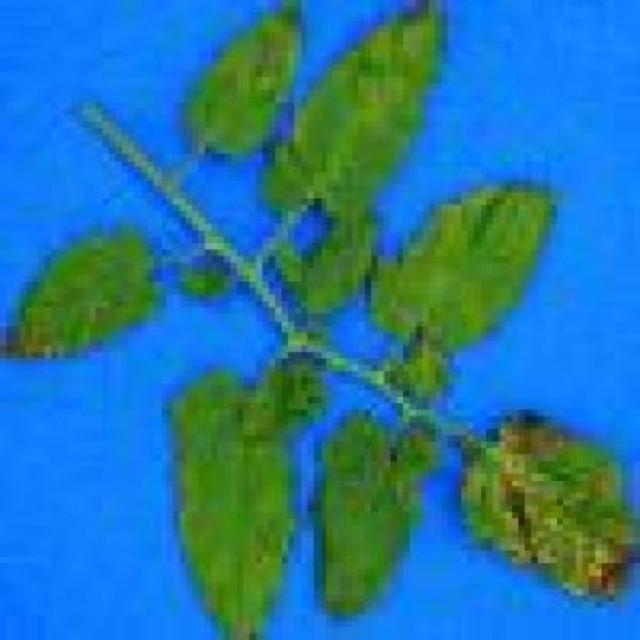Septoria leaf spot: (167, 327, 309, 635), (276, 1, 450, 238), (455, 397, 635, 622), (302, 410, 462, 635), (366, 180, 558, 359), (7, 213, 167, 379), (179, 1, 307, 173), (296, 212, 385, 321), (237, 360, 340, 443)
